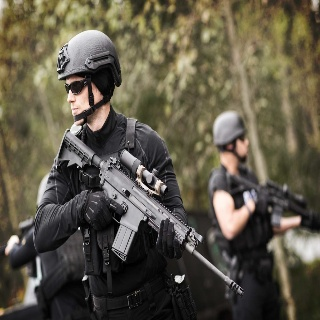rifle: (53, 127, 245, 298)
